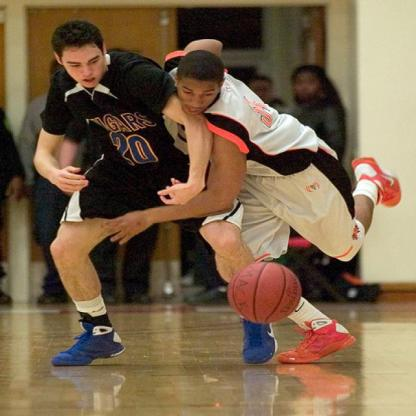basketball: (225, 261, 300, 322)
